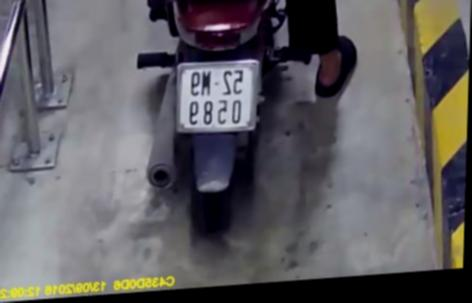License_Plate: (168, 52, 270, 139)
